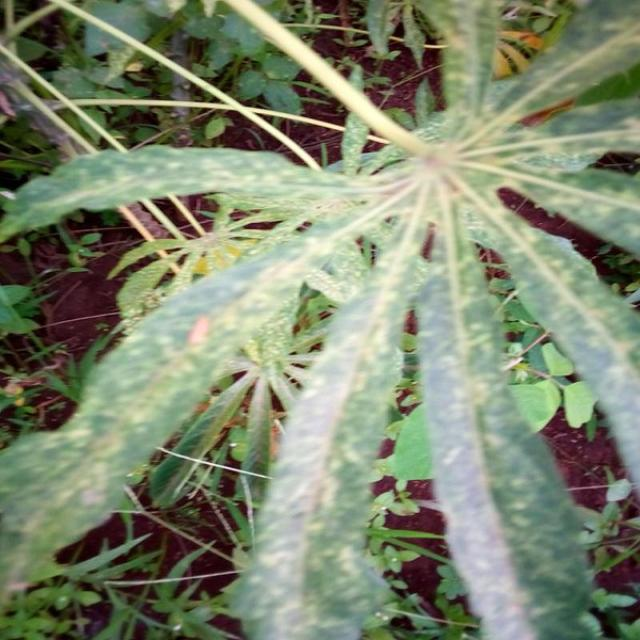cassava leaf: (2, 0, 639, 638), (414, 239, 602, 638), (227, 245, 414, 638)
